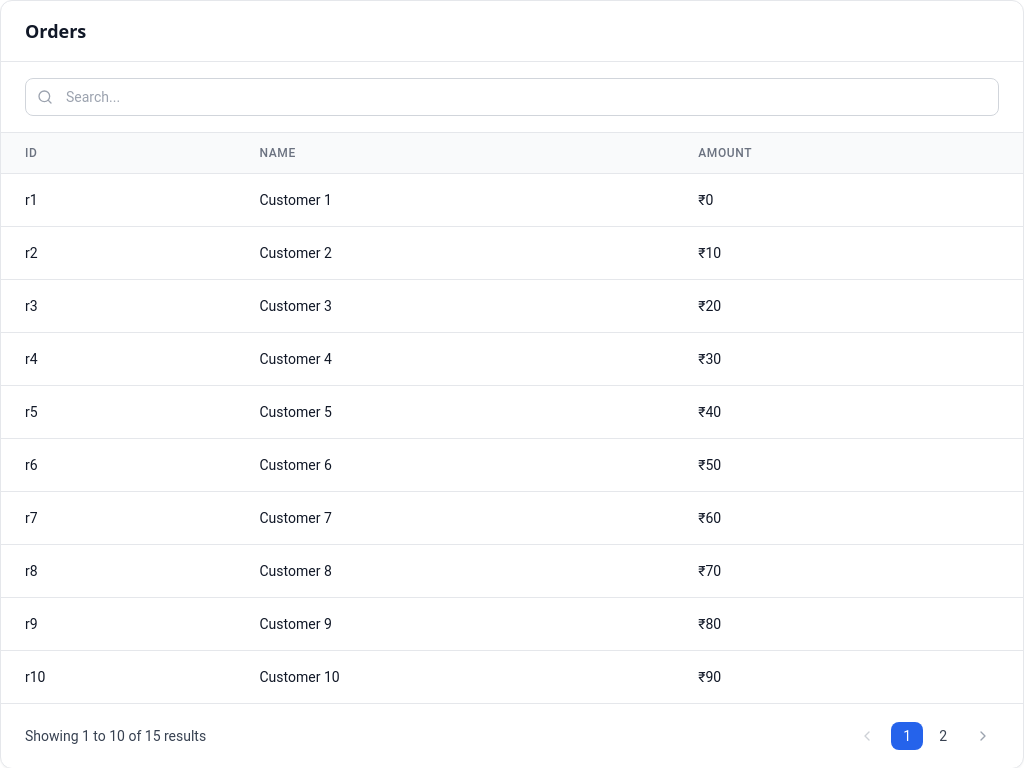
<AdminDataTable> › paginates client-side and the Next/Prev controls update the visible rows
The width and height of the screenshot is (1024, 768).
Check: the text "Customer 1" is shown, box [236,174,674,226]
Check: the text "Customer 11" is not shown
# Page-2 button → rows 11–15 visible
Click the button "2" at (943, 736), box [927,722,959,750]
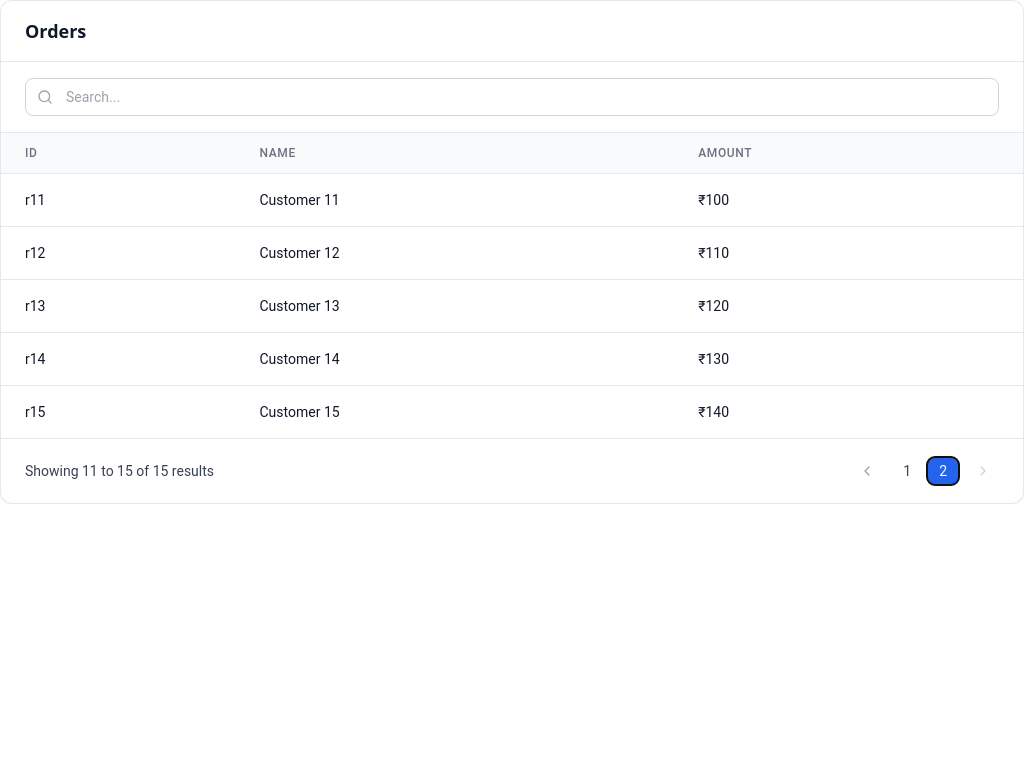
Check: the text "Customer 11" is shown, box [236,174,674,226]
